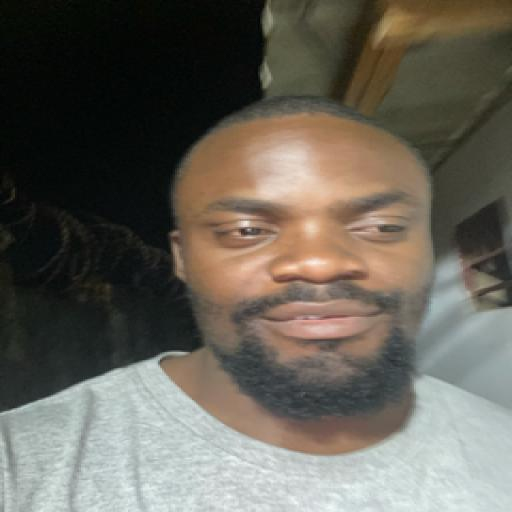JEANLUC: (177, 117, 438, 415)
